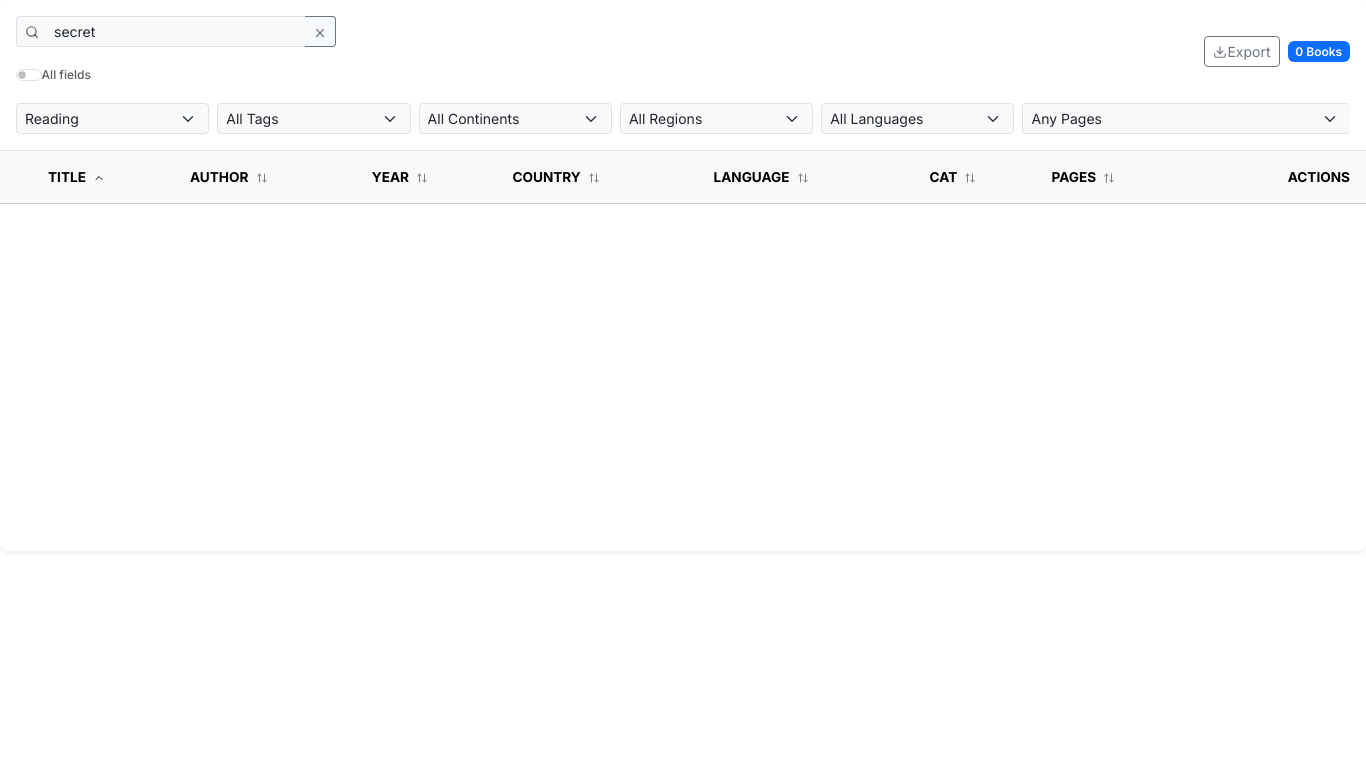
BookTable Component tests › filtra livros pelo campo descrição apenas quando o switch de busca em todos os campos está ativado
Expected: the text "Book A" is not shown
Note: Encontra o switch "searchAllFieldsSwitch" e clica nele para ativá-lo
What coordinates should you click on to do the following:
click the switch labelled "All fields"
I would click on:
 (29, 75)
Its box is x1=16 y1=69 x2=42 y2=81.
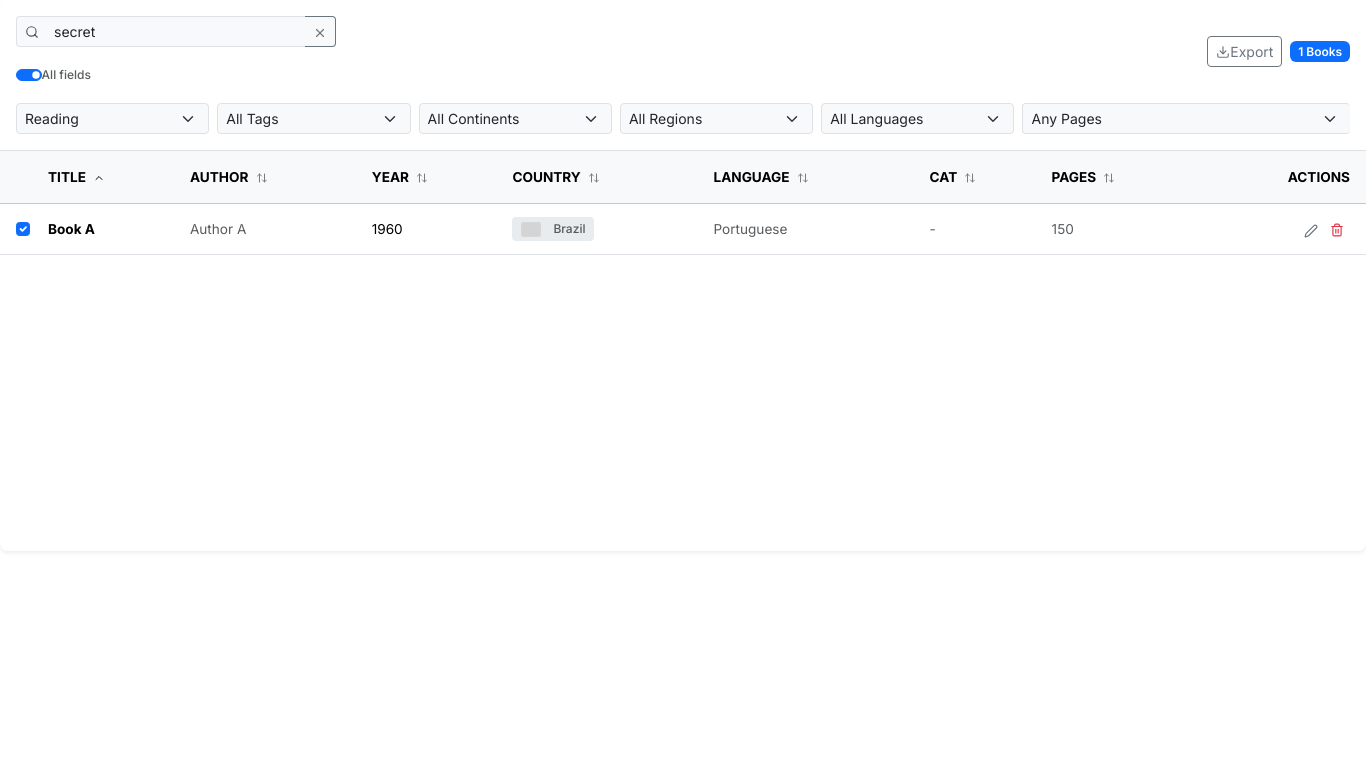
Expected: the text "Book A" is shown, x1=48 y1=221 x2=95 y2=237
